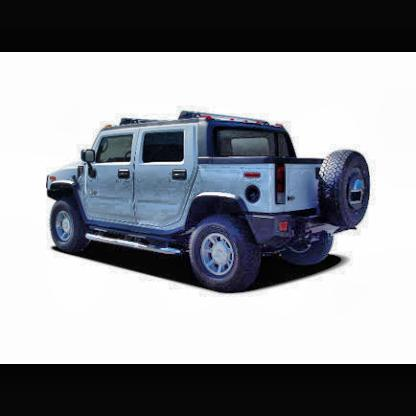HUMMER H2 SUT Crew Cab 2009: (46, 112, 374, 291)
